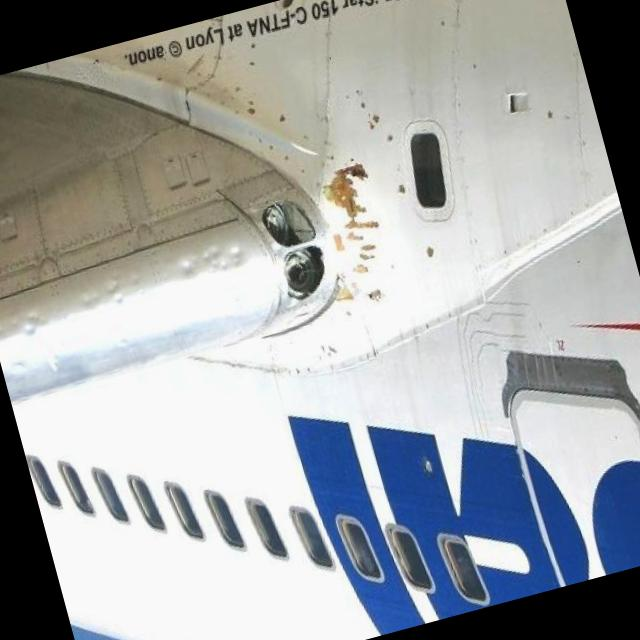dent: (0, 232, 261, 376)
